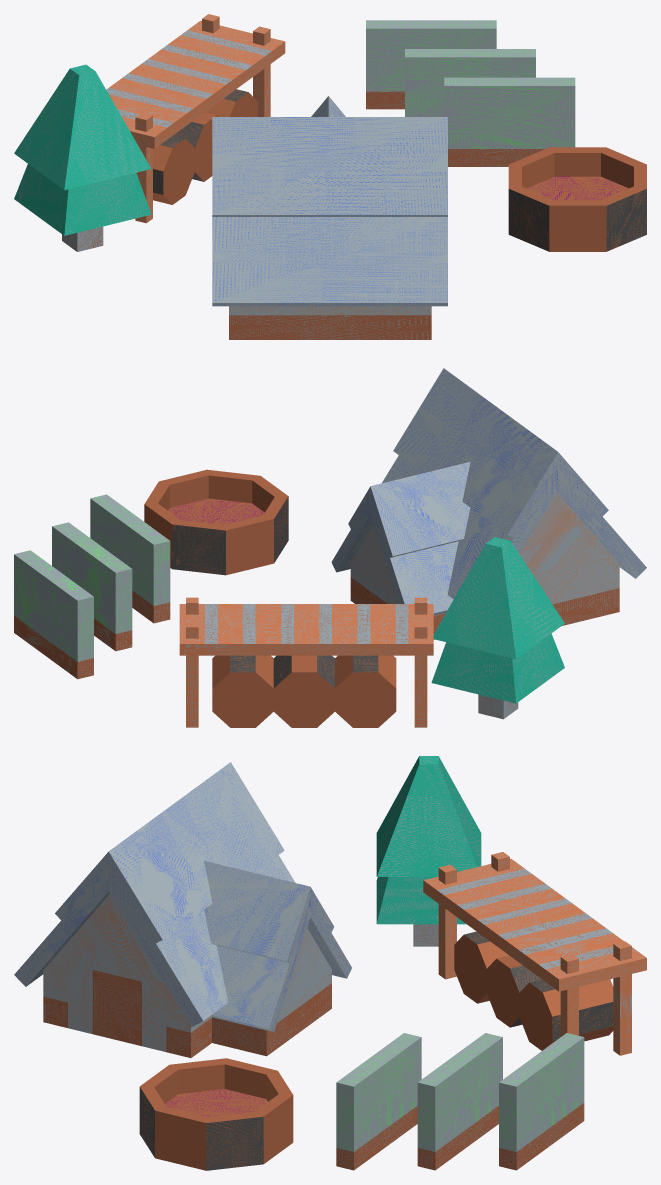
Rendered from Winery.fbx.
3 views of the same model, one above another, from view 1: azimuth 30°, elevation 25°; view 2: azimuth 150°, elevation 25°; view 3: azimuth 270°, elevation 25° (orthographic). The views are drawn at different scales.
Parts seen in each view (by area): view 1: Group10, Group12, Group2, Group9, Group7, Group11, Group3, Group6, Group4, Group1, Group8; view 2: Group10, Group12, Group2, Group7, Group11, Group3, Group9, Group6, Group8, Group1, Group4; view 3: Group10, Group2, Group12, Group7, Group11, Group9, Group3, Group6, Group8, Group1, Group4.
Boxes of the visible parts, <box> form: Group10: <box>212,96,447,339</box>; Group12: <box>14,64,151,251</box>; Group2: <box>508,147,646,251</box>; Group9: <box>444,77,575,166</box>; Group7: <box>106,49,245,223</box>; Group11: <box>366,20,496,109</box>; Group3: <box>405,49,535,116</box>; Group6: <box>161,14,285,116</box>; Group4: <box>153,135,194,204</box>; Group1: <box>174,112,218,181</box>; Group8: <box>205,89,257,116</box>; Group10: <box>331,368,646,639</box>; Group12: <box>431,537,564,719</box>; Group2: <box>144,469,288,575</box>; Group7: <box>255,597,433,727</box>; Group11: <box>14,550,93,679</box>; Group3: <box>52,522,132,651</box>; Group9: <box>90,494,170,623</box>; Group6: <box>179,597,255,727</box>; Group8: <box>212,655,273,727</box>; Group1: <box>273,655,334,727</box>; Group4: <box>335,655,396,727</box>; Group10: <box>14,762,351,1057</box>; Group2: <box>139,1058,293,1170</box>; Group12: <box>376,756,481,946</box>; Group7: <box>423,852,605,979</box>; Group11: <box>499,1033,584,1170</box>; Group9: <box>336,1033,421,1170</box>; Group3: <box>417,1033,502,1170</box>; Group6: <box>518,928,646,1055</box>; Group8: <box>519,979,613,1050</box>; Group1: <box>487,955,541,1027</box>; Group4: <box>454,931,508,1003</box>.
Size of the model in its own units: 0.8833 by 0.3176 by 0.934.
